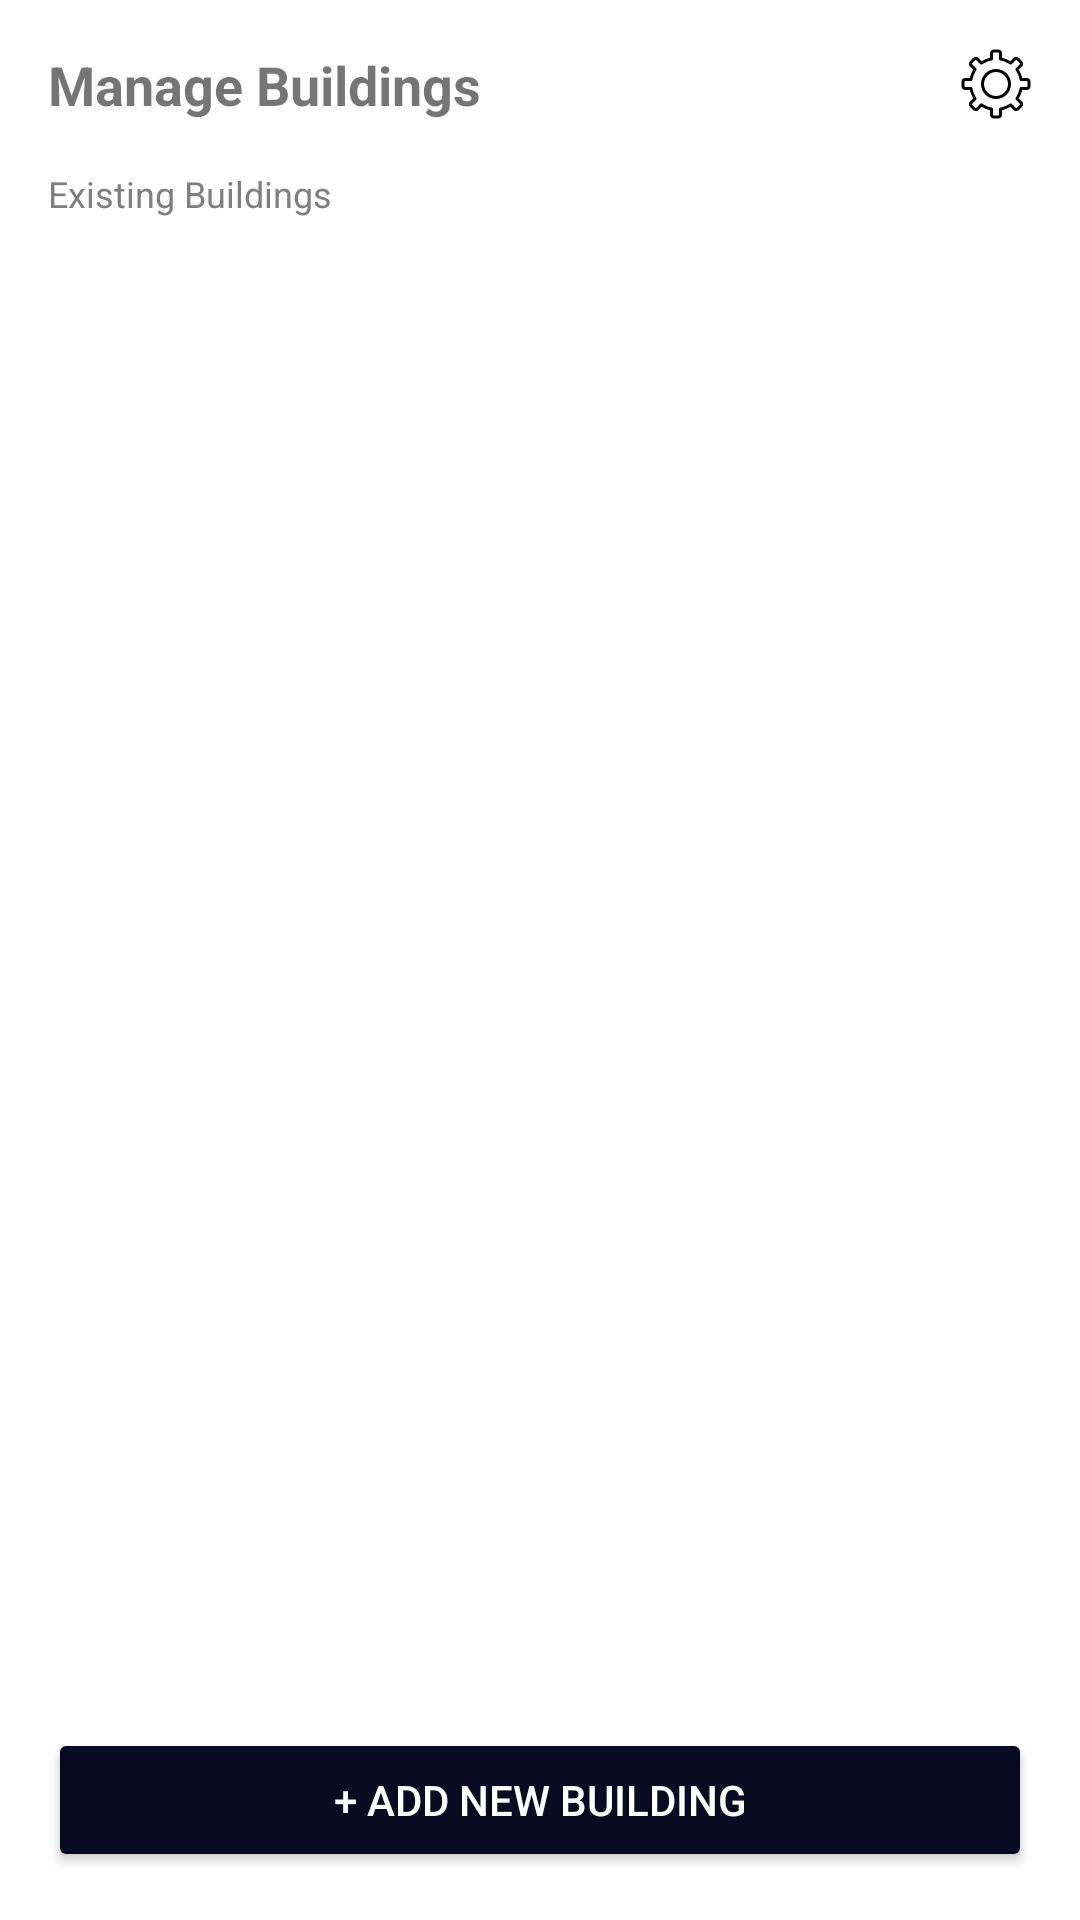

Icons on this 1080 x 1920 Android screen, each with the point to tap as [x,y]:
settings: [996,84]
